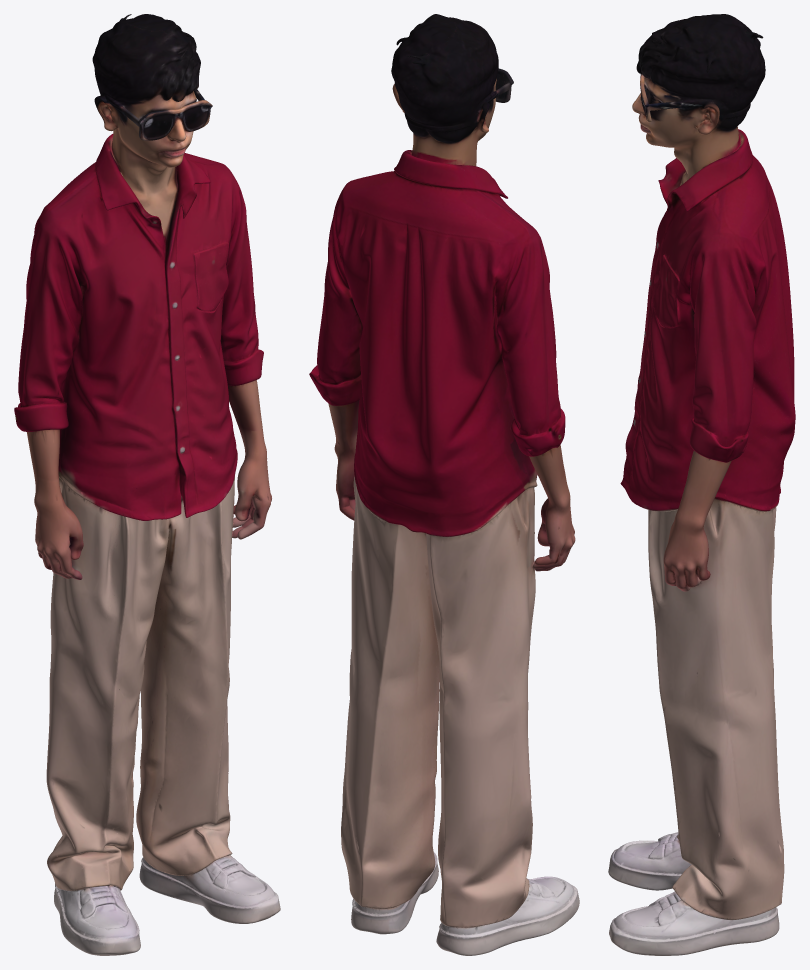
The model's file is sameer-v2.glb.
3 views of the same model, side by side, from view 1: azimuth 30°, elevation 25°; view 2: azimuth 150°, elevation 25°; view 3: azimuth 270°, elevation 25° (orthographic).
Visible parts, largest first — view 1: node_0; view 2: node_0; view 3: node_0.
Boxes of the visible parts, x1,y1,x2,y2 form: node_0: (14, 14, 280, 955); node_0: (309, 14, 579, 955); node_0: (608, 14, 795, 955).
Size of the model in its own units: 0.3408 by 1.17 by 0.2224.
Materials: 1 (1 with a texture image).
